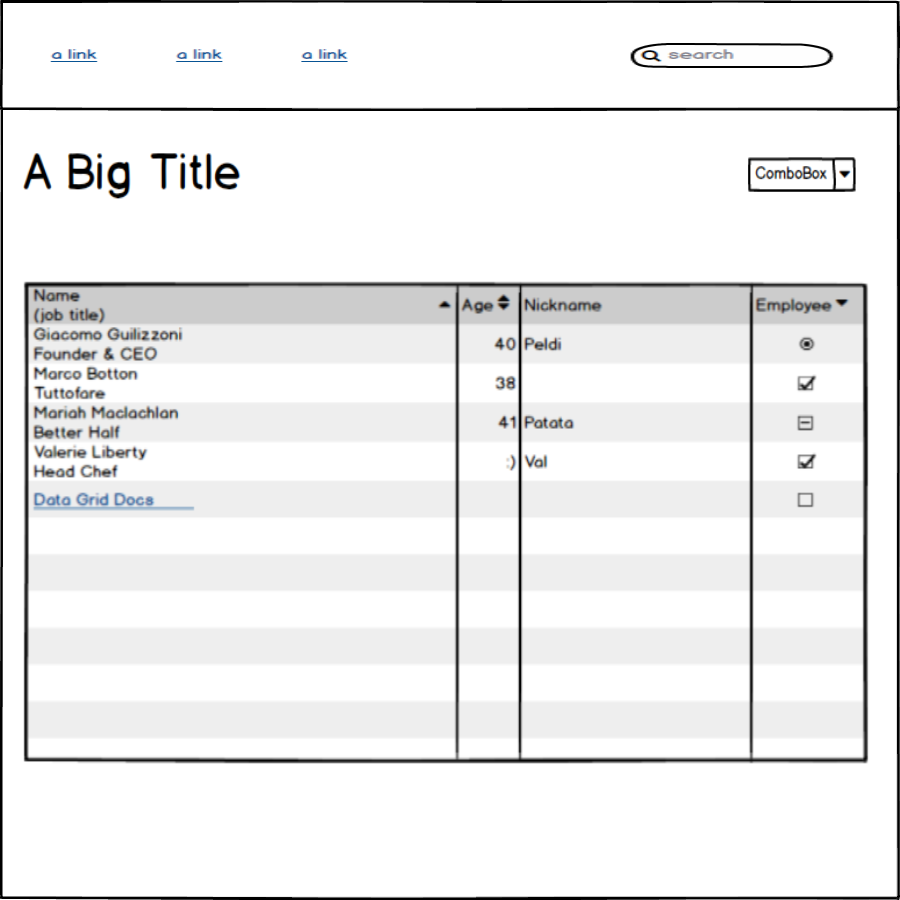h1: (15, 147, 245, 204)
navlink: (168, 36, 228, 74), (293, 37, 352, 71), (48, 38, 105, 67)
search: (623, 34, 841, 74)
select_box: (738, 147, 868, 199)
table: (15, 271, 879, 773)
